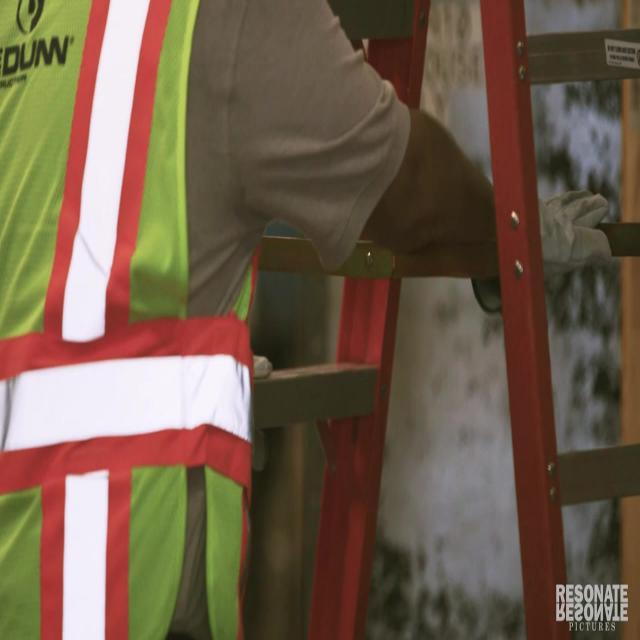Reflective-Jacket: (0, 0, 274, 637)
